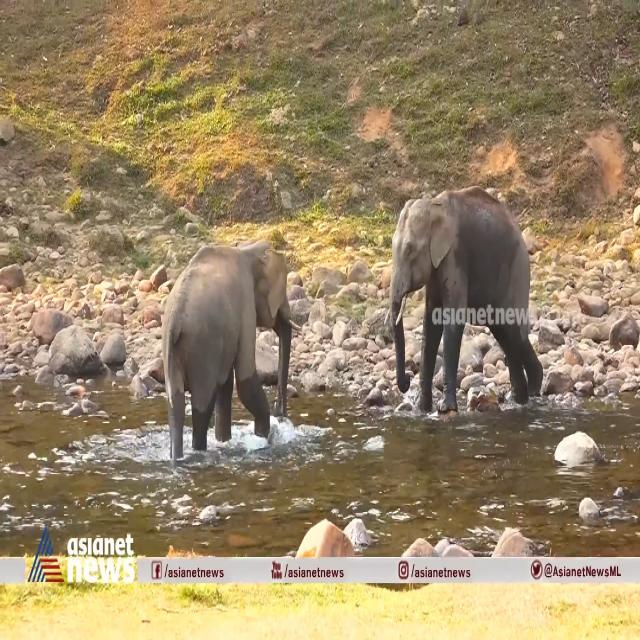ELEPHANT: (158, 232, 300, 429)
